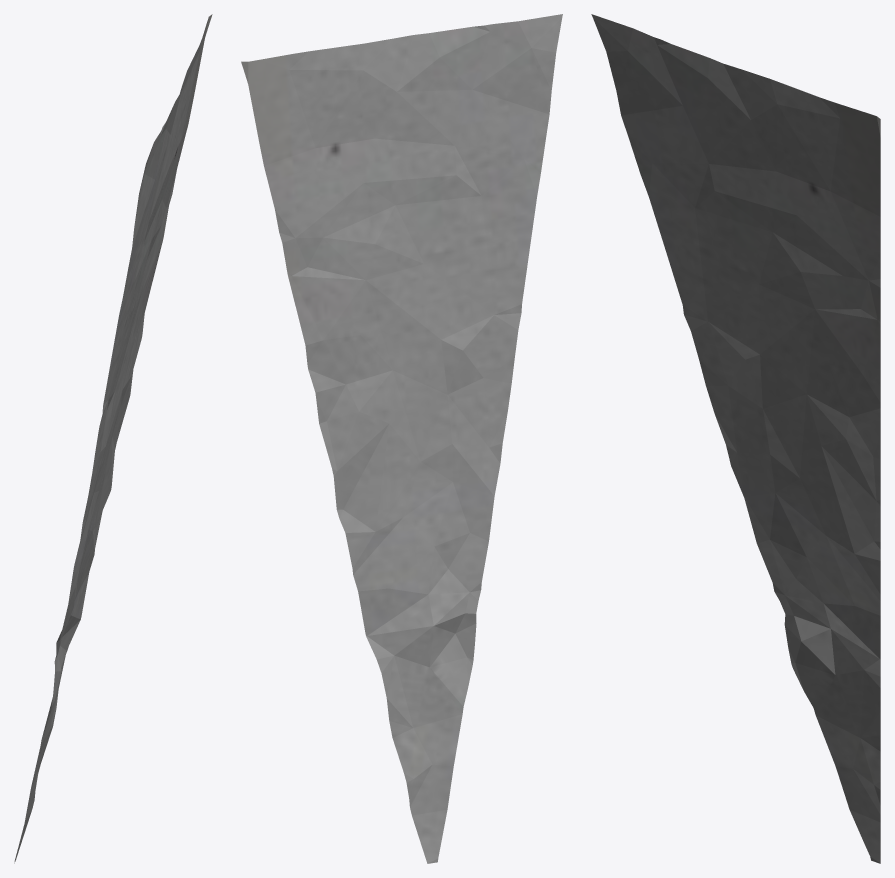
The picture shows the model from 3 angles, left to right: view 1: azimuth 30°, elevation 25°; view 2: azimuth 150°, elevation 25°; view 3: azimuth 270°, elevation 25°; orthographic projection. The views are drawn at different scales.
Bounding box in the file's own units: 0.2229 × 0.8373 × 0.2595.
1 material, 1 textured.
